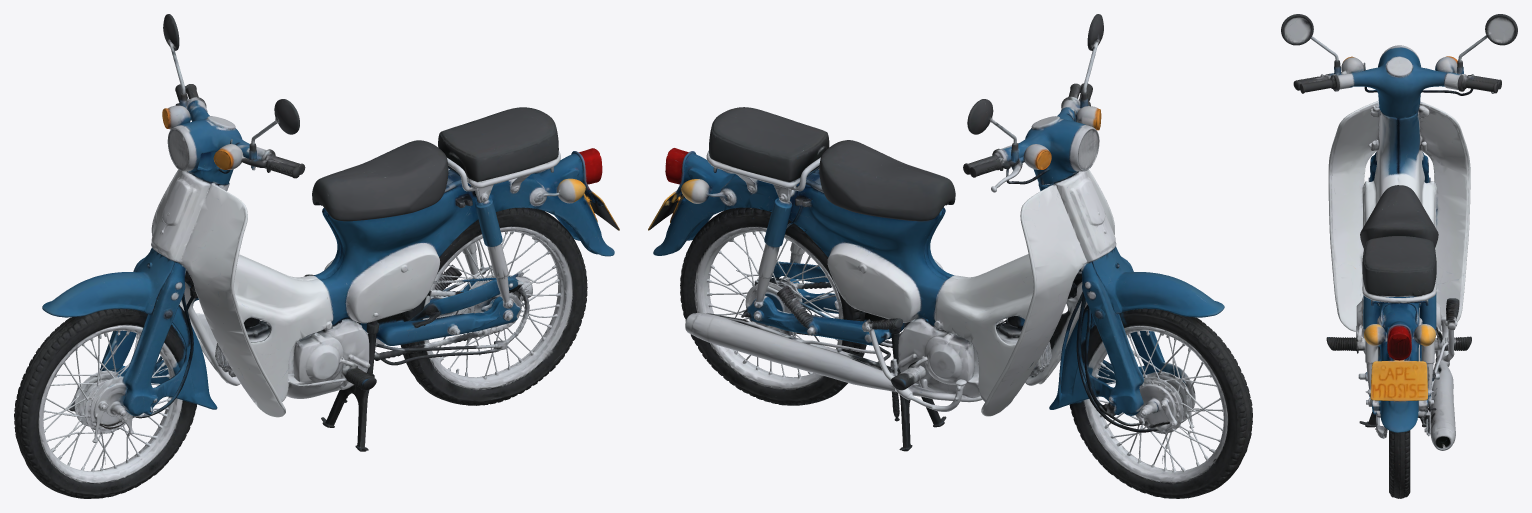
The model's file is kapcai.glb.
3 views of the same model, side by side, from view 1: azimuth 30°, elevation 25°; view 2: azimuth 150°, elevation 25°; view 3: azimuth 270°, elevation 25° (orthographic). The views are drawn at different scales.
Size of the model in its own units: 1.89 by 1.24 by 0.7359.
Materials: 1 (1 with a texture image).
